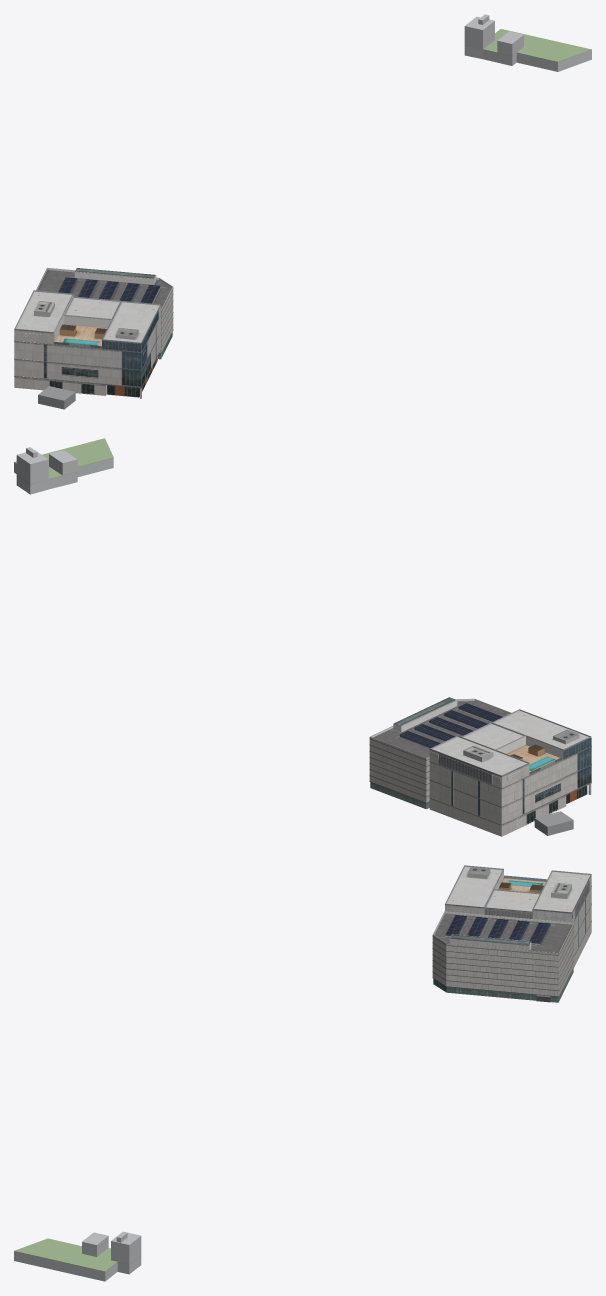
The model's file is hype.glb.
The picture shows the model from 3 angles, top to bottom: view 1: azimuth 90°, elevation 25°; view 2: azimuth 150°, elevation 25°; view 3: azimuth 270°, elevation 25°; orthographic projection. The views are drawn at different scales.
Visible parts, largest first — view 1: hype_w, hype_t, parking_t, metro_station, metro_green, hype_s, parking_concrete, parking_s, metro_dark, hype_concrete; view 2: hype_t, hype_w, hype_n, parking_t, parking_n, metro_station, metro_green, metro_dark, parking_concrete, hype_concrete, hype_metal; view 3: parking_e, hype_t, parking_t, metro_station, metro_green, hype_e, hype_n, parking_n.
Part boxes in pixels (x1,y1,x2,y2): hype_w: (14,329,143,398); hype_t: (14,290,161,387); parking_t: (36,267,172,309); metro_station: (464,14,591,71); metro_green: (465,29,591,62); hype_s: (139,305,161,398); parking_concrete: (36,268,172,290); parking_s: (152,286,173,358); metro_dark: (38,386,75,409); hype_concrete: (54,295,111,394); hype_t: (429,709,591,824); hype_w: (500,737,591,836); hype_n: (429,749,501,836); parking_t: (370,697,511,758); parking_n: (369,737,426,808); metro_station: (14,447,113,494); metro_green: (14,438,113,484); metro_dark: (534,811,573,835); parking_concrete: (371,699,510,737); hype_concrete: (497,736,590,794); hype_metal: (431,709,590,762); parking_e: (432,935,558,1002); hype_t: (445,865,591,955); parking_t: (432,911,573,953); metro_station: (14,1231,141,1281); metro_green: (14,1238,141,1271); hype_e: (445,904,572,922); hype_n: (572,874,591,967); parking_n: (550,923,574,1001).
Size of the model in its own units: 432 by 34.1 by 285.
22 materials, 10 textured.
